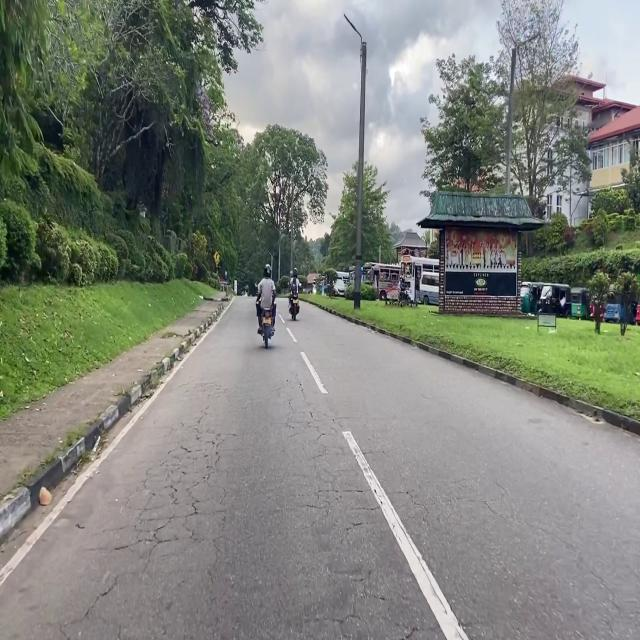bus: (401, 255, 439, 301), (363, 263, 401, 300), (349, 265, 363, 284)
car: (332, 278, 346, 296)
motorcycle: (262, 310, 274, 348), (291, 295, 299, 321), (399, 287, 411, 304)
person: (256, 264, 276, 334), (289, 268, 300, 311), (398, 276, 406, 290)
three wheeler: (538, 284, 570, 317), (604, 293, 636, 324), (520, 282, 541, 313), (571, 288, 589, 319), (635, 296, 640, 325)
van: (419, 273, 439, 305)
